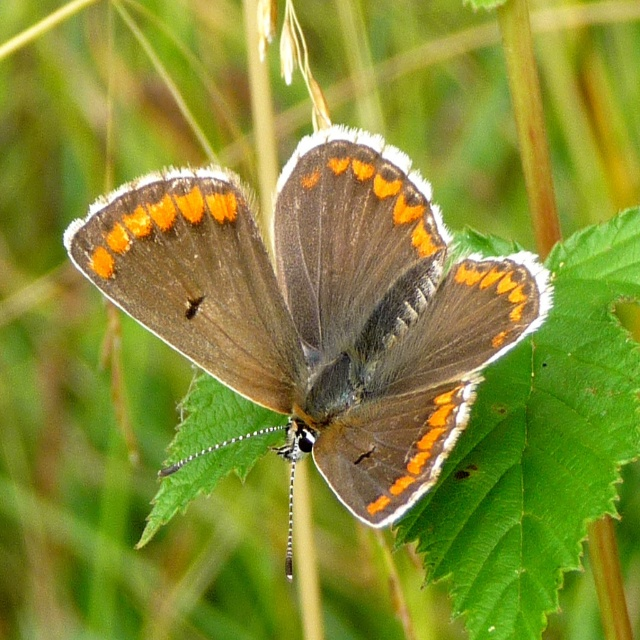Butterfly: (62, 125, 555, 582)
